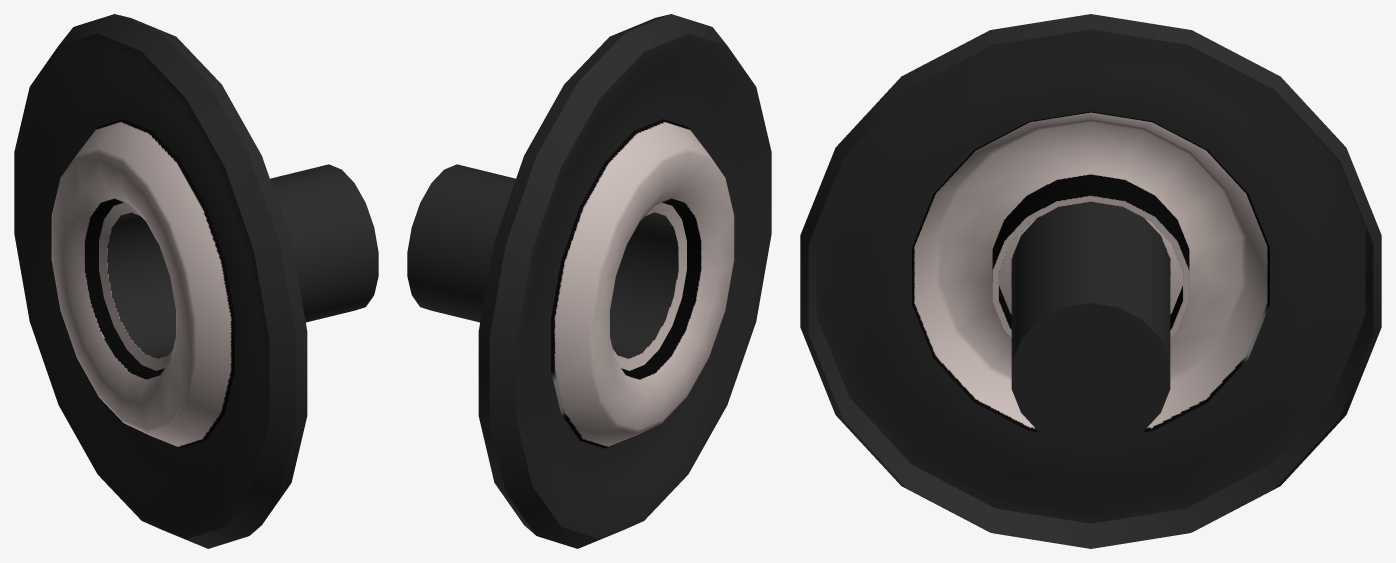
Rendered from puerto jack.fbx.
3 renders of one model, left to right at view 1: azimuth 30°, elevation 25°; view 2: azimuth 150°, elevation 25°; view 3: azimuth 270°, elevation 25°, orthographic. The views are drawn at different scales.
Visible parts, largest first — view 1: PUERTO A; view 2: PUERTO A; view 3: PUERTO A.
Part boxes in pixels (x1,y1,x2,y2): PUERTO A: (14,14,378,548); PUERTO A: (407,14,771,548); PUERTO A: (800,14,1381,548).
Bounding box in the file's own units: 3.93 × 8.47 × 8.34.
